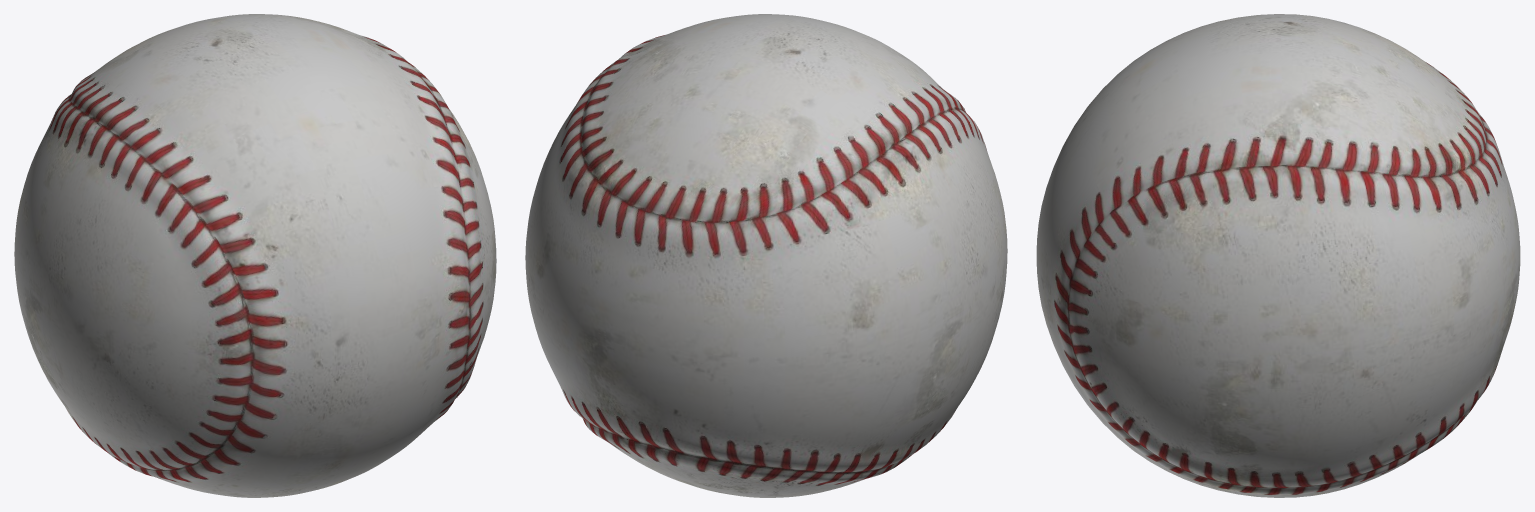
The model's file is baseball_01_1k.gltf.
The picture shows the model from 3 angles, left to right: view 1: azimuth 30°, elevation 25°; view 2: azimuth 150°, elevation 25°; view 3: azimuth 270°, elevation 25°; orthographic projection.
Parts seen in each view (by area): view 1: baseball_01; view 2: baseball_01; view 3: baseball_01.
Part boxes in pixels (x1=…): baseball_01: x1=14, y1=14, x2=496, y2=497; baseball_01: x1=525, y1=14, x2=1007, y2=497; baseball_01: x1=1036, y1=14, x2=1520, y2=497.
Size of the model in its own units: 0.0735 by 0.0753 by 0.0752.
Materials: 1 (1 with a texture image).
